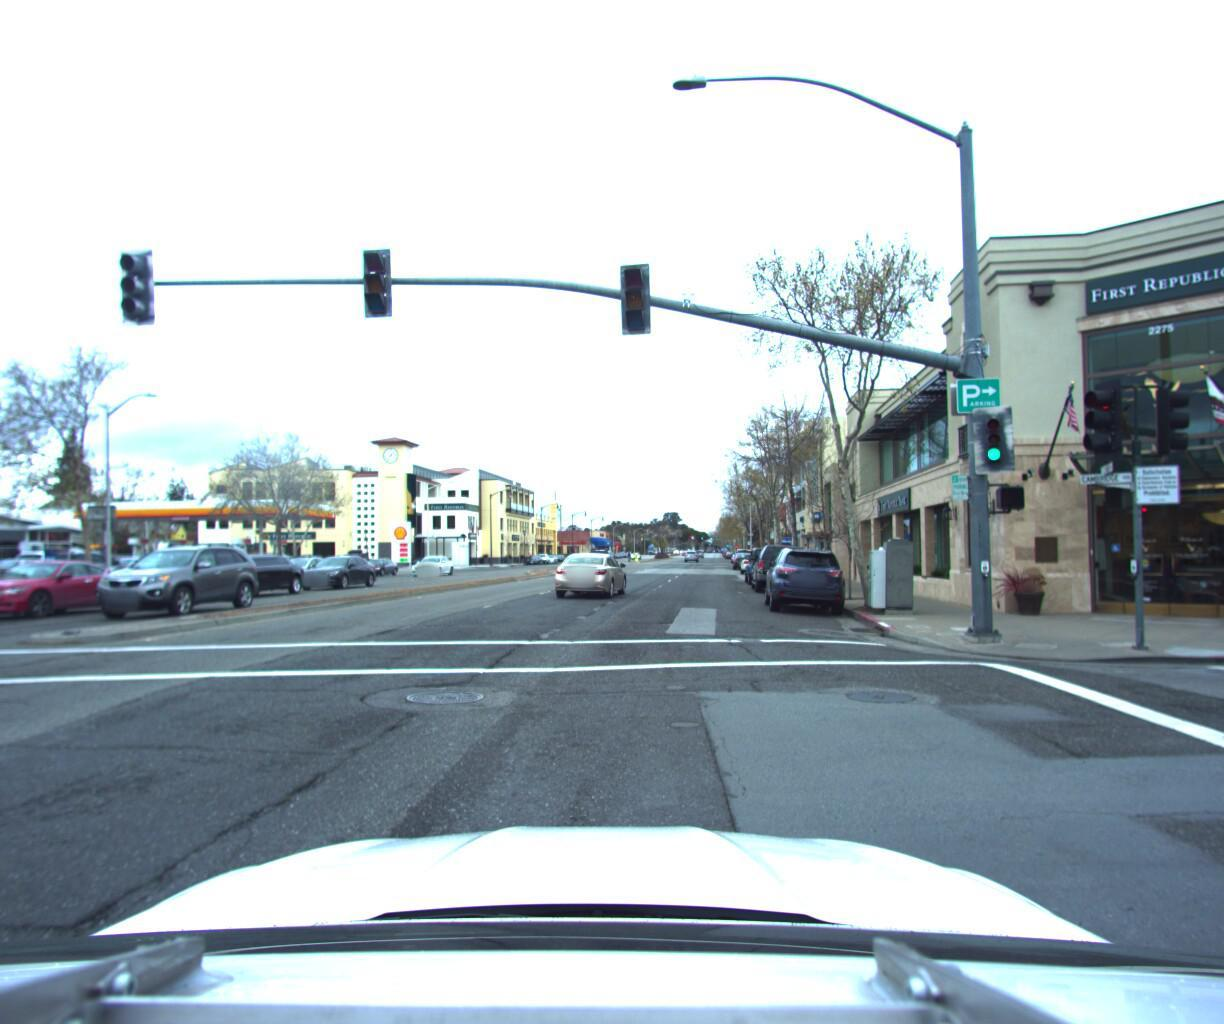car: (84, 546, 268, 627), (0, 563, 144, 630), (758, 548, 849, 625), (173, 562, 310, 609), (297, 552, 381, 600), (551, 556, 628, 605), (743, 544, 802, 602), (77, 543, 145, 573), (189, 551, 251, 581), (739, 554, 786, 593), (411, 555, 456, 581), (582, 552, 614, 580), (734, 557, 764, 584), (728, 551, 753, 573)
truck: (0, 330, 17, 704)
